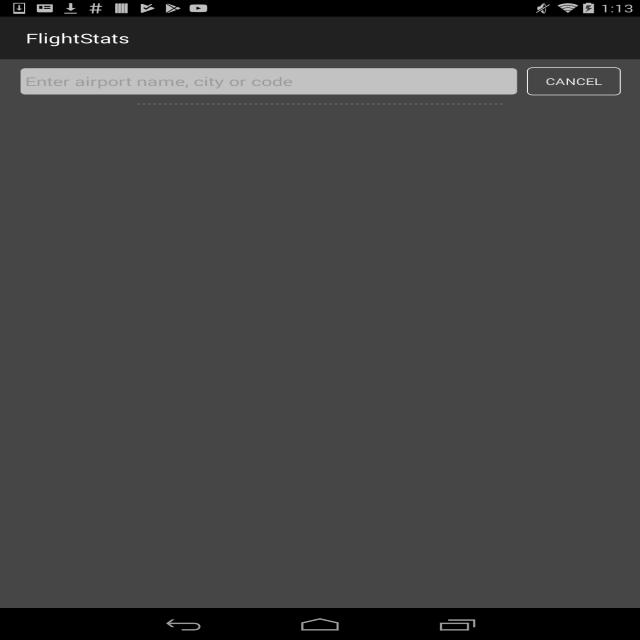EditText: (11, 66, 522, 98)
TextView: (19, 31, 138, 50)
